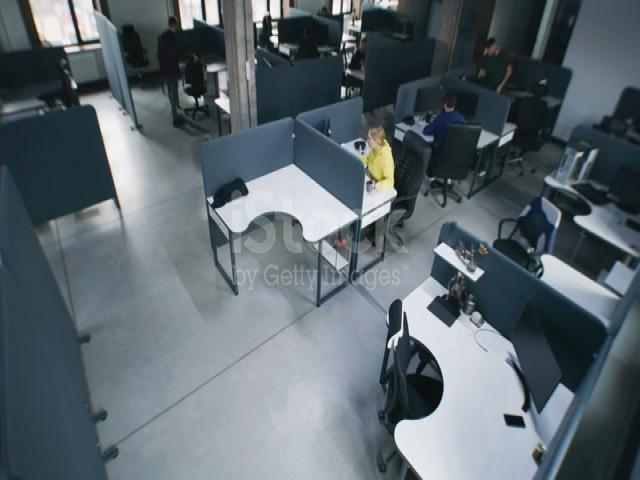empty chair: (373, 269, 435, 472), (44, 36, 100, 137), (506, 168, 555, 275), (519, 77, 566, 171), (116, 8, 151, 84), (183, 57, 216, 136), (591, 104, 633, 143)
occupiedchair: (344, 118, 432, 242), (424, 82, 485, 203), (333, 33, 377, 107)
